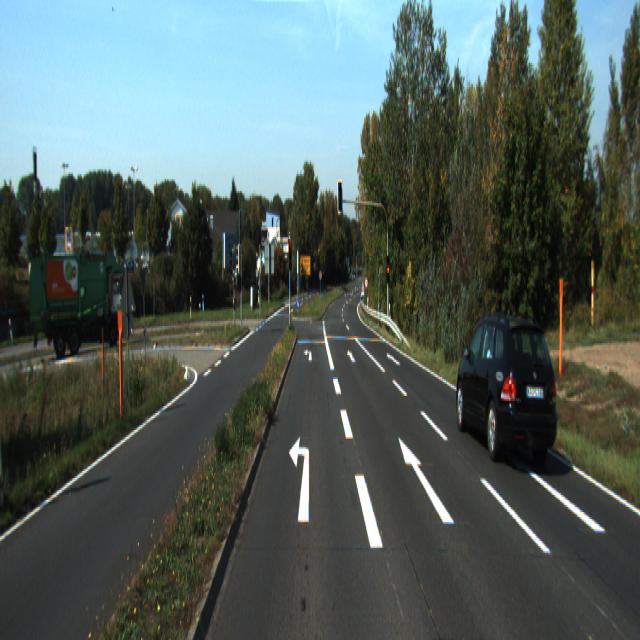Car: (453, 310, 560, 468), (29, 251, 133, 357)
